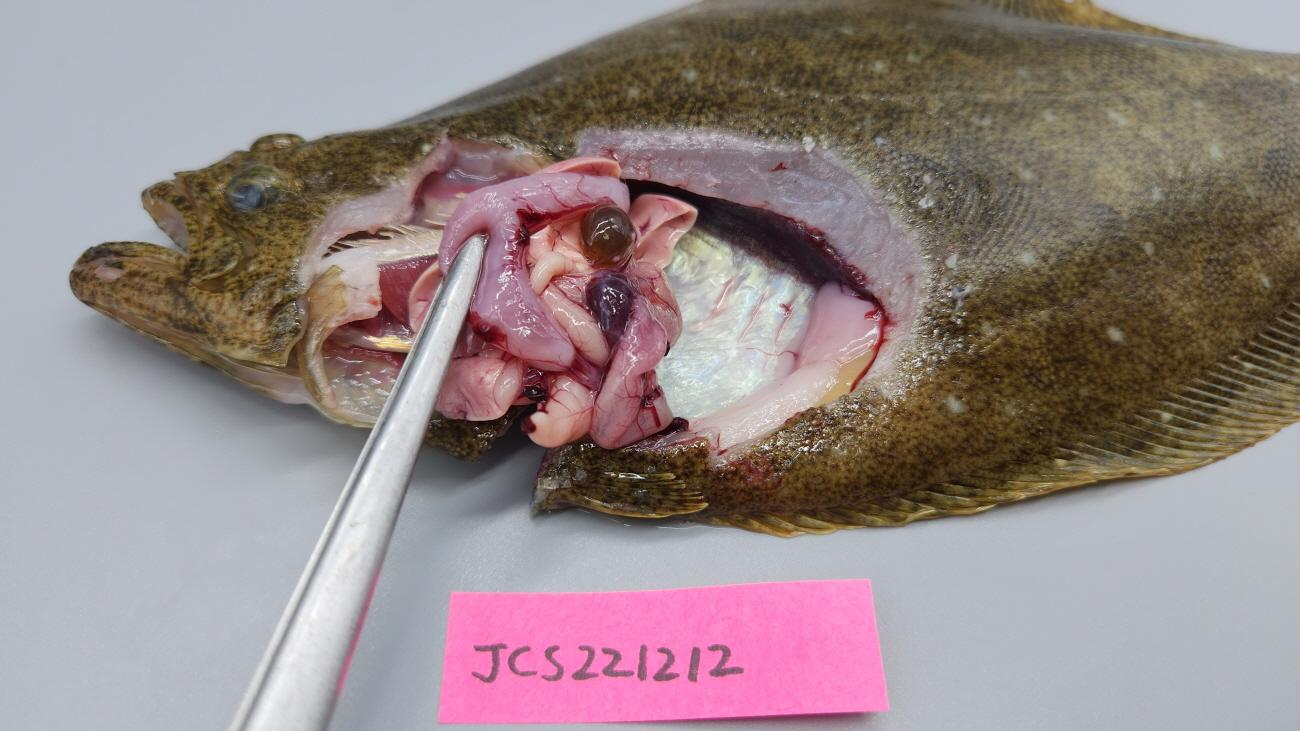POINN: (539, 260, 682, 448)
POSPN: (586, 274, 635, 354)
